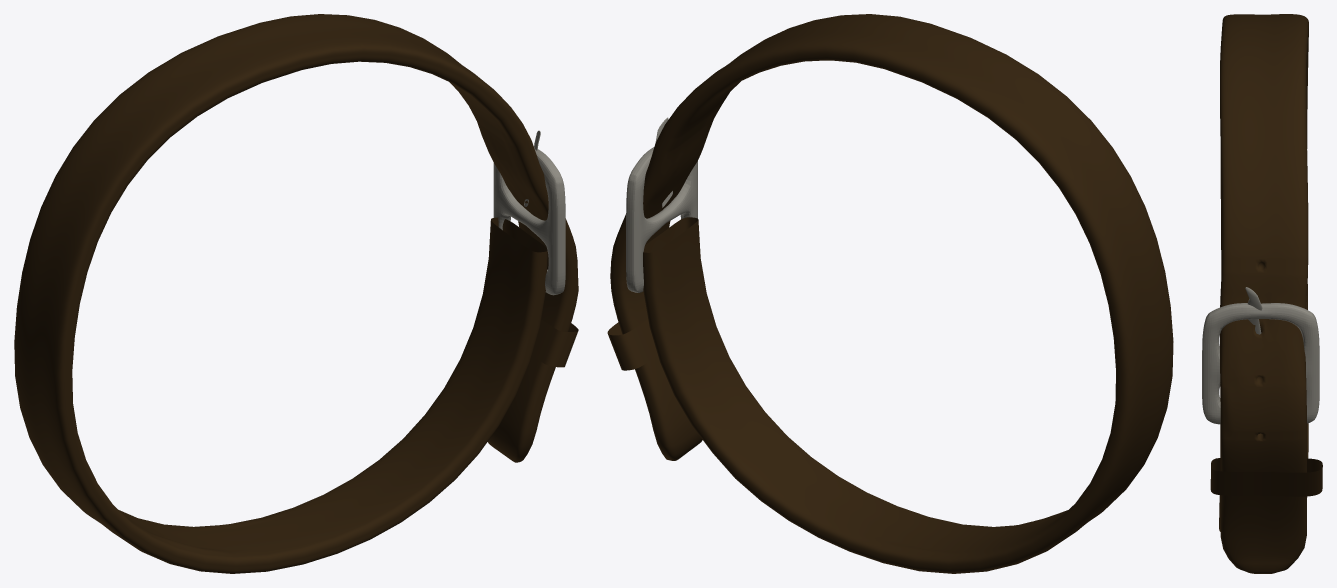
File: Cinturon_Cafe.fbx
3 views of the same model, side by side, from view 1: azimuth 30°, elevation 25°; view 2: azimuth 150°, elevation 25°; view 3: azimuth 270°, elevation 25° (orthographic). The views are drawn at different scales.
Visible parts, largest first — view 1: Correa, Hebilla; view 2: Correa, Hebilla; view 3: Correa, Hebilla, Circle.
Boxes of the visible parts, box(x1,y1,x2,y2) form: Correa: box(14, 14, 578, 573); Hebilla: box(493, 147, 565, 295); Correa: box(607, 14, 1173, 573); Hebilla: box(626, 147, 697, 292); Correa: box(1210, 14, 1322, 573); Hebilla: box(1202, 303, 1319, 424); Circle: box(1245, 287, 1262, 334).
Size of the model in its own units: 218 by 204 by 47.64.
